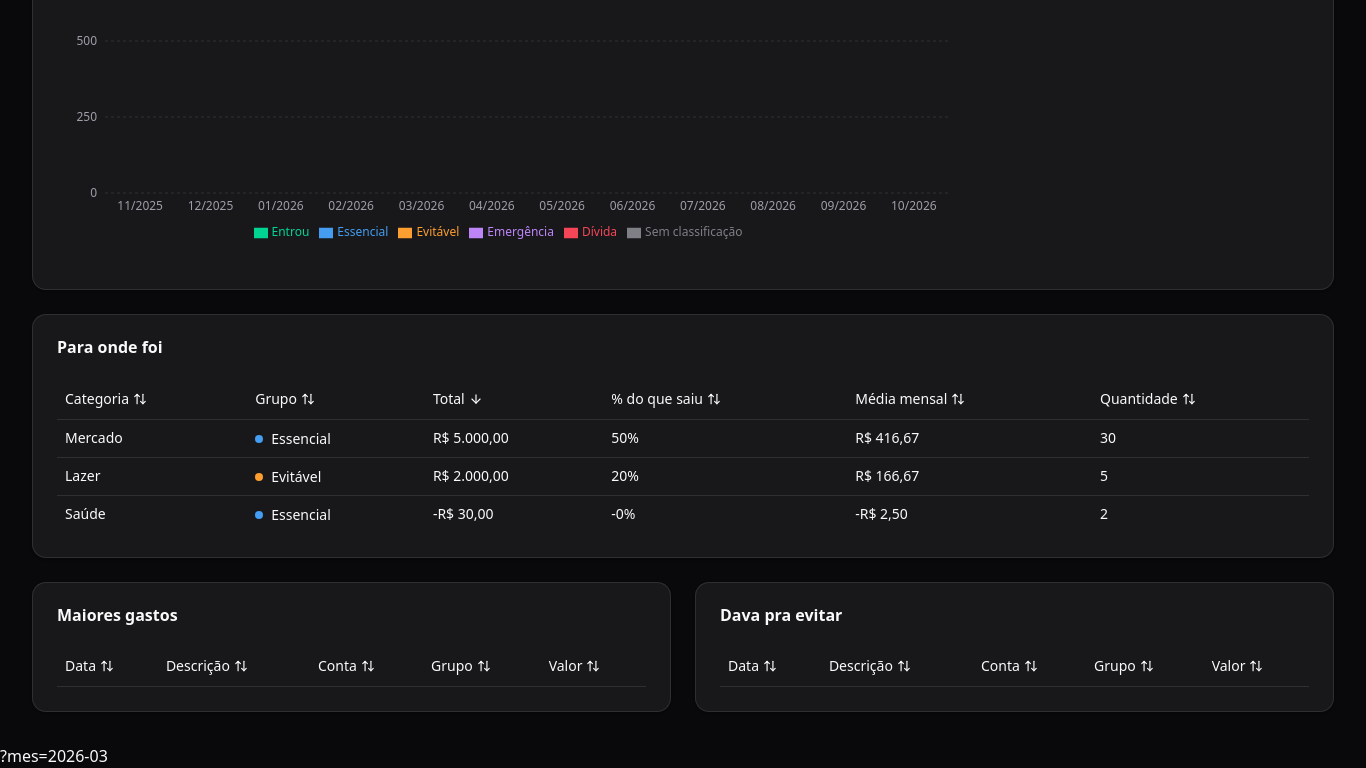
AnalysisPage › clicar numa categoria abre o detalhe com as transações dela, inclusive de cartão
(page scrolled)
Click the button "Mercado".
click(94, 438)  # box [65, 428, 123, 448]
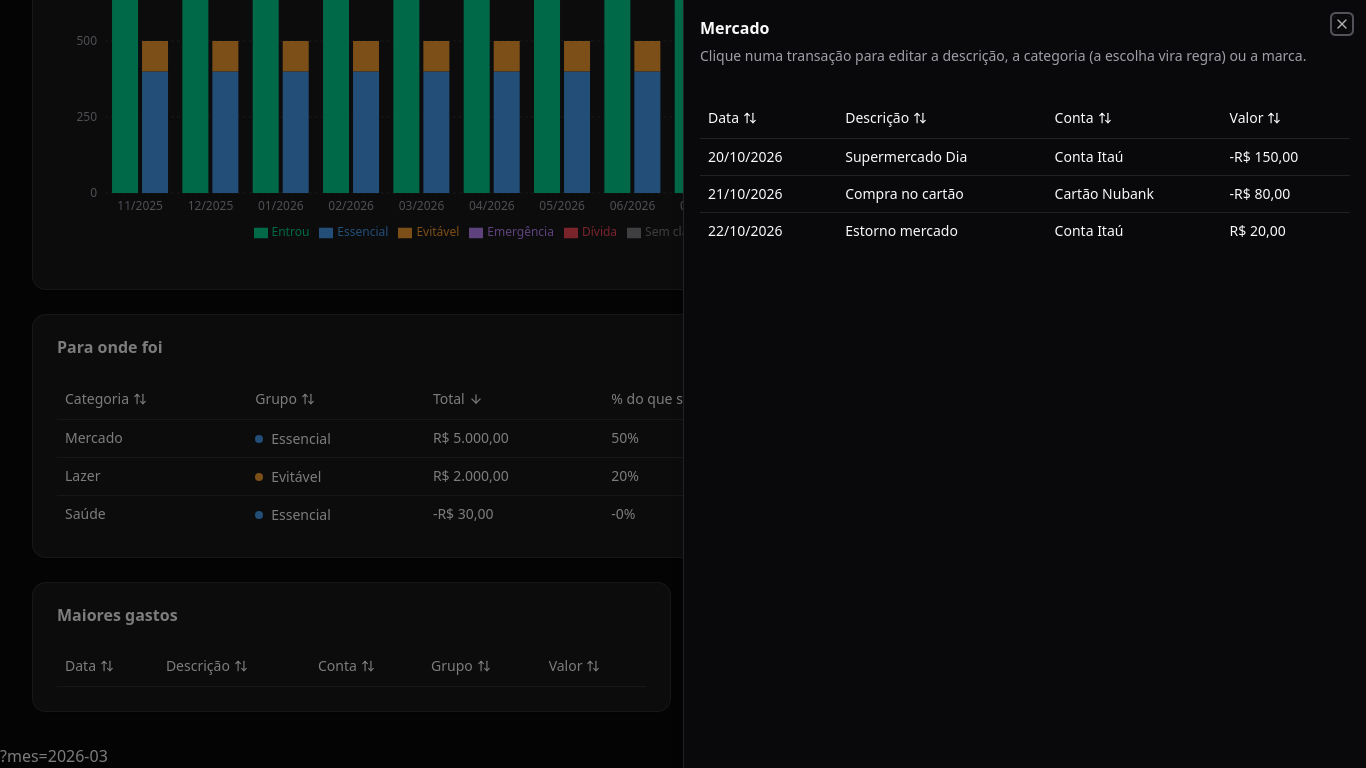
Now the button "Supermercado Dia" is shown, box [845, 146, 967, 166]
Now the text "Cartão Nubank" is shown, box [1047, 175, 1222, 212]
